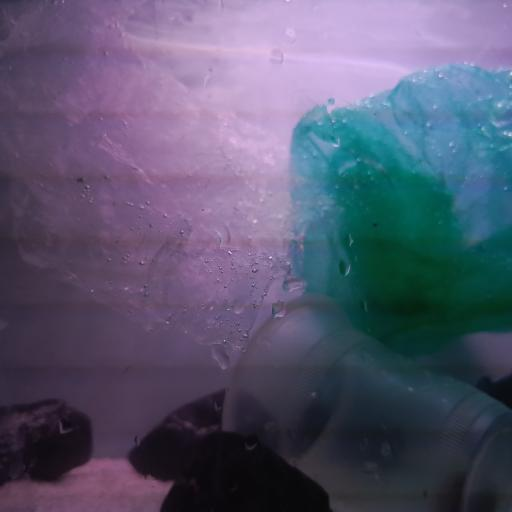plastic_bag: (1, 14, 332, 352), (287, 57, 512, 368)
plastic_cup: (221, 289, 512, 512)
